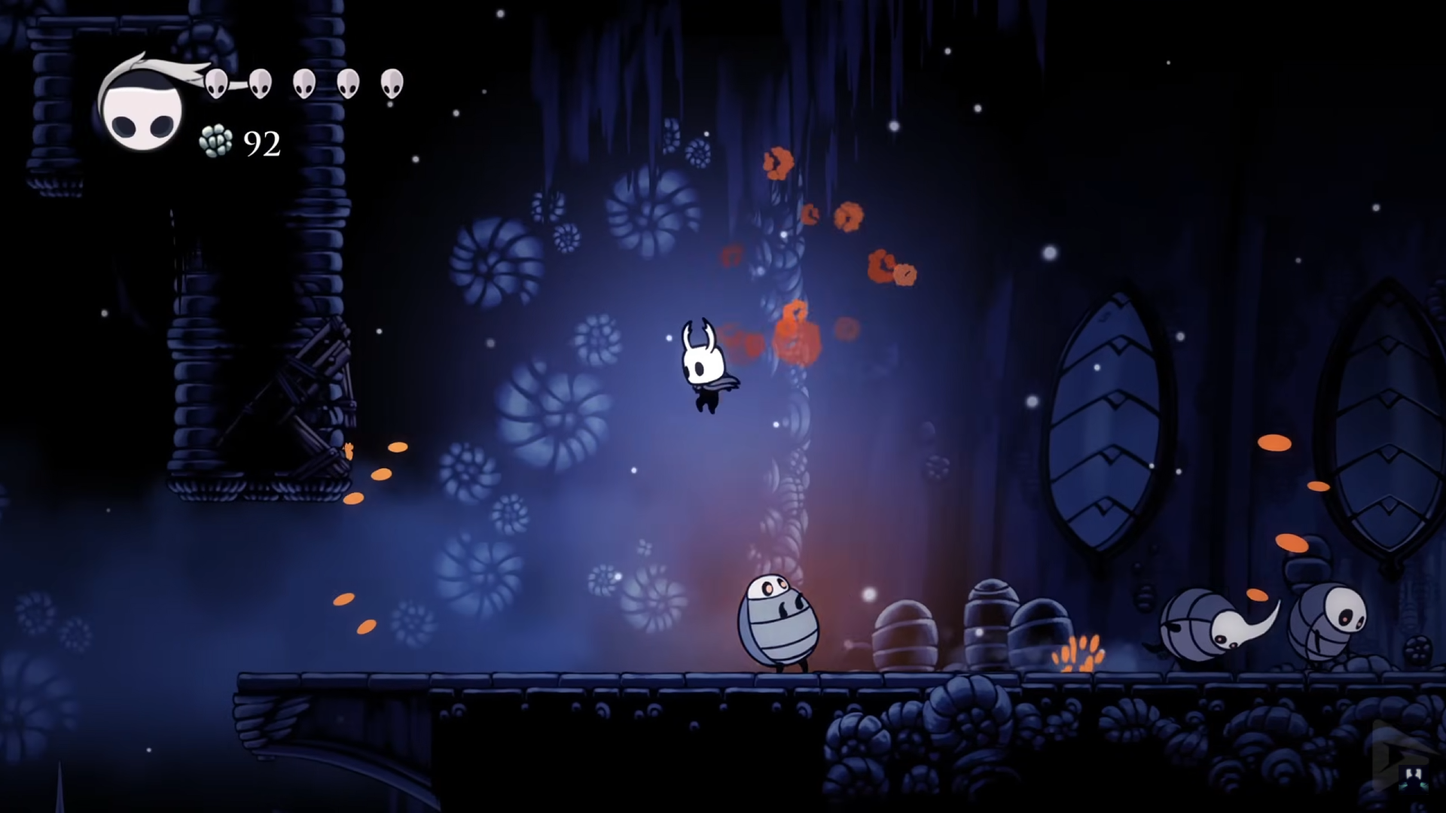HK: (671, 317, 736, 414)
